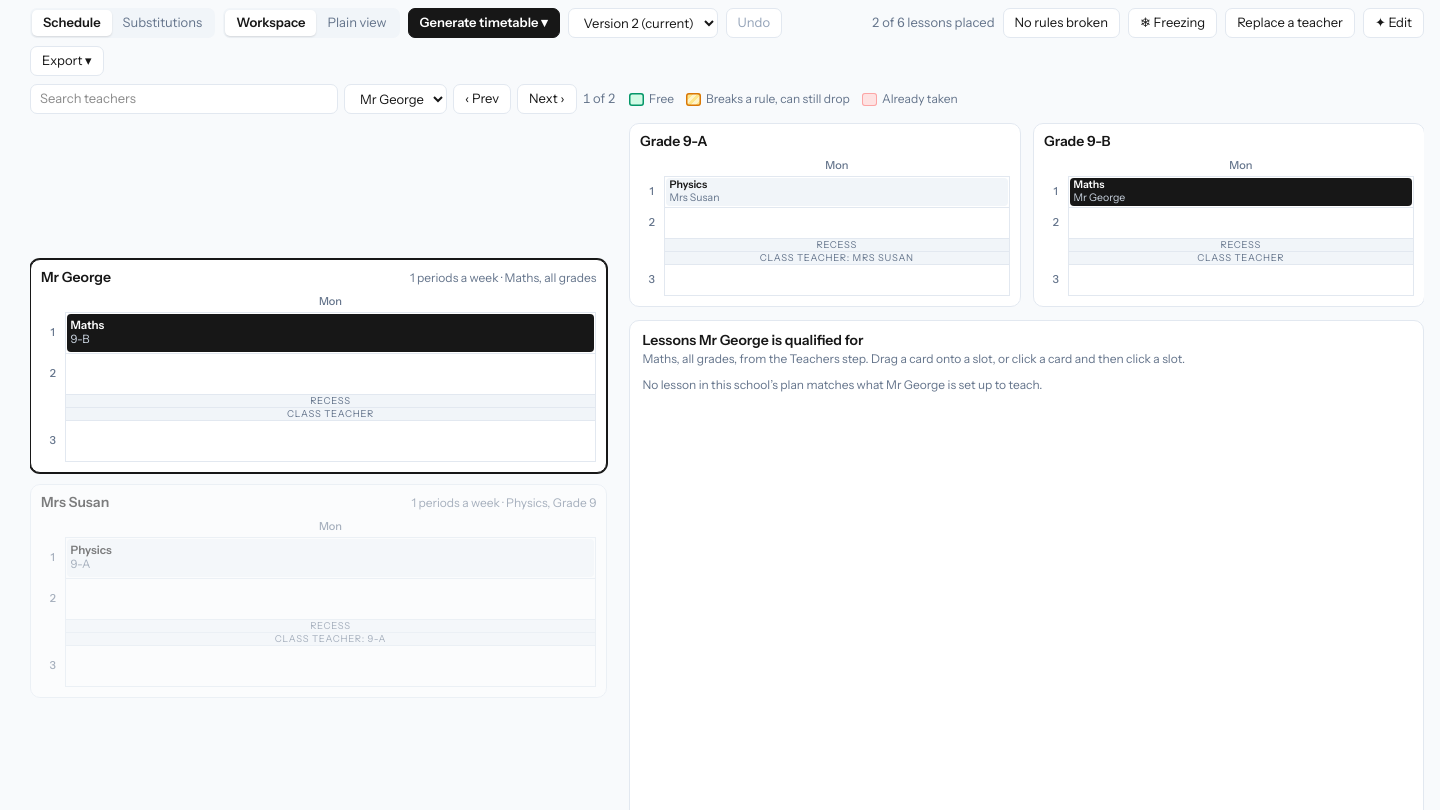
placing a lesson › refuses red and says why, without asking the server
Click the button with aria-label "Next teacher": [547, 99] box top-left (517, 84), bottom-right (576, 114)
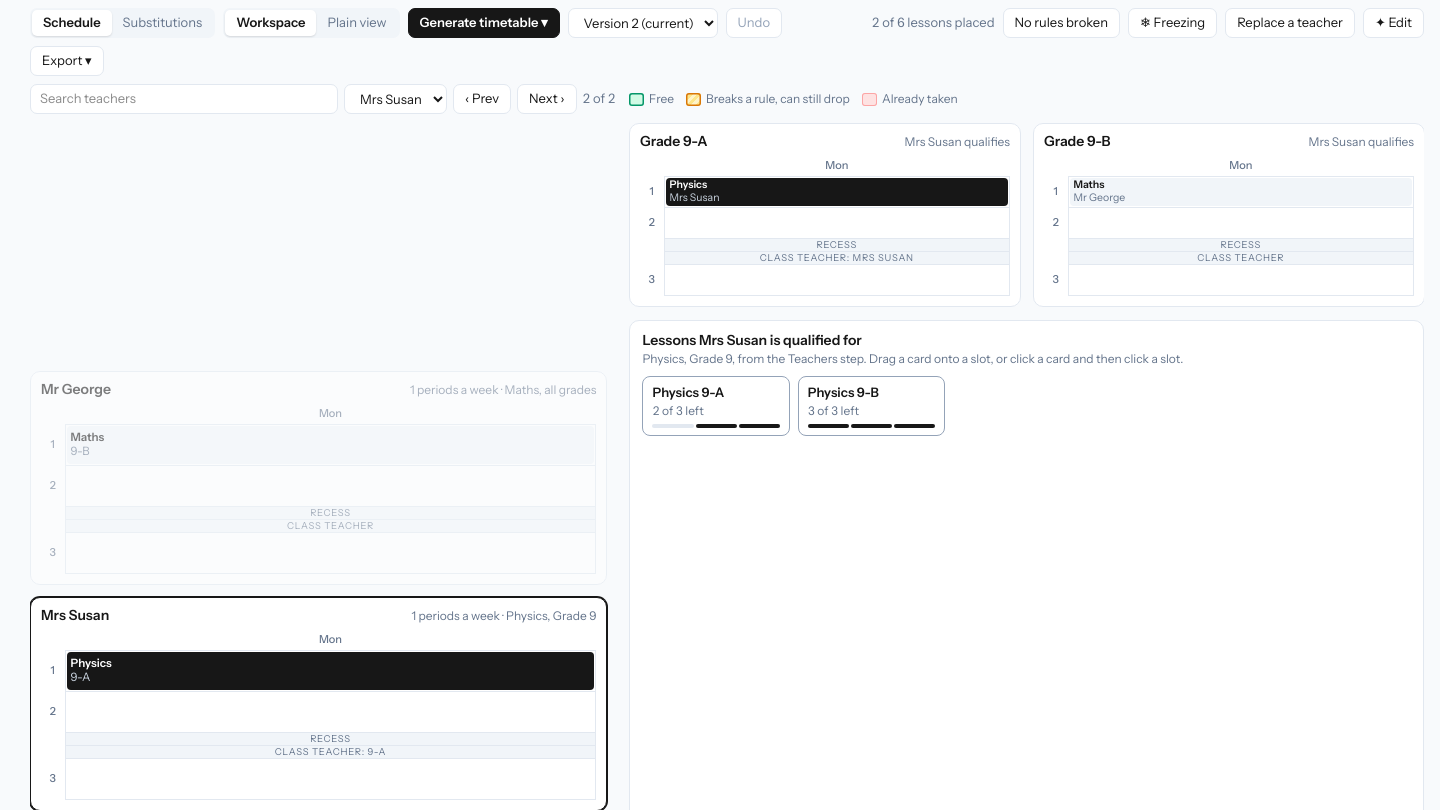
Press the mouse on the button "Physics 9-A 2 of 3 left": [716, 406] box top-left (642, 376), bottom-right (790, 436)
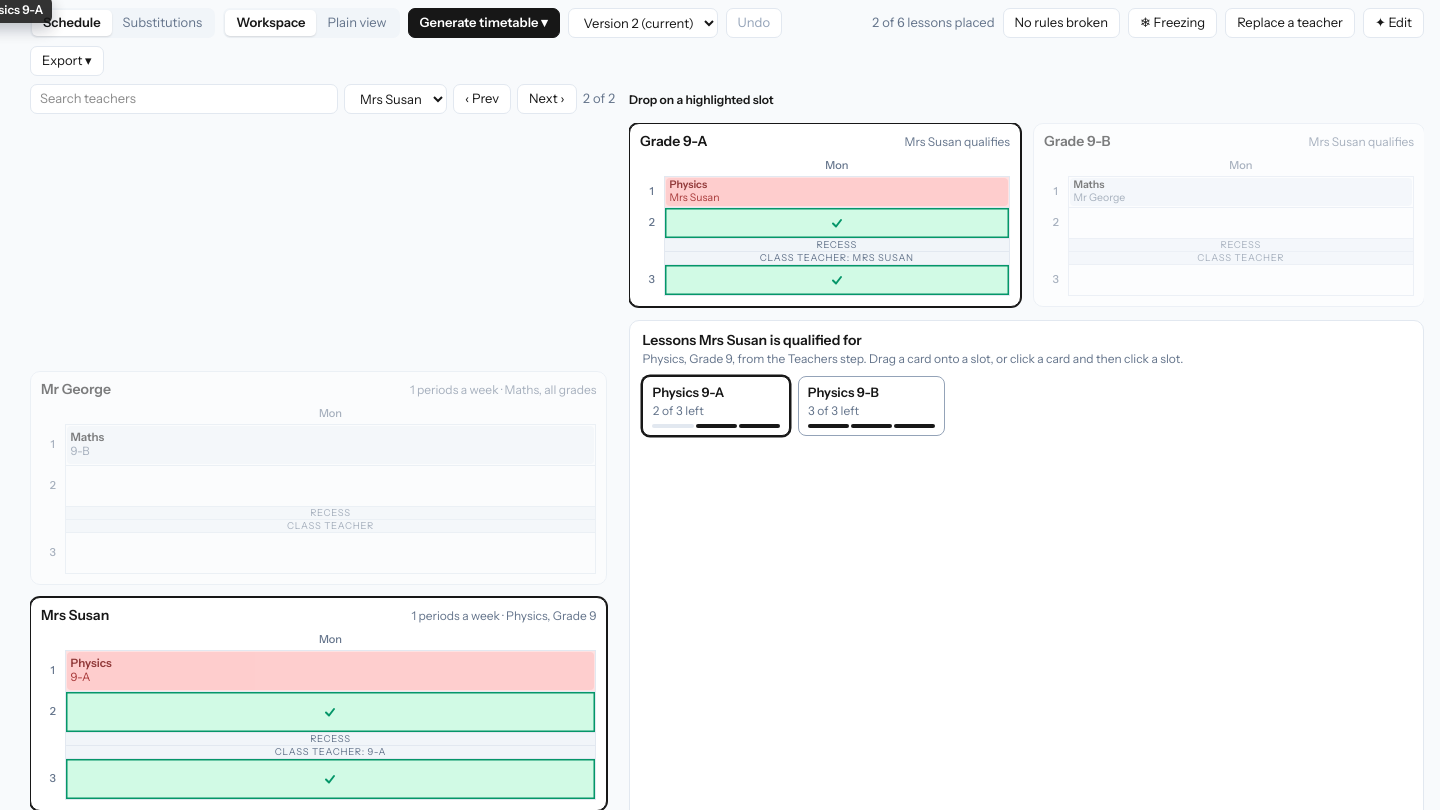
Press the mouse on the cell "Physics 9-A": [330, 670] box top-left (65, 650), bottom-right (596, 691)
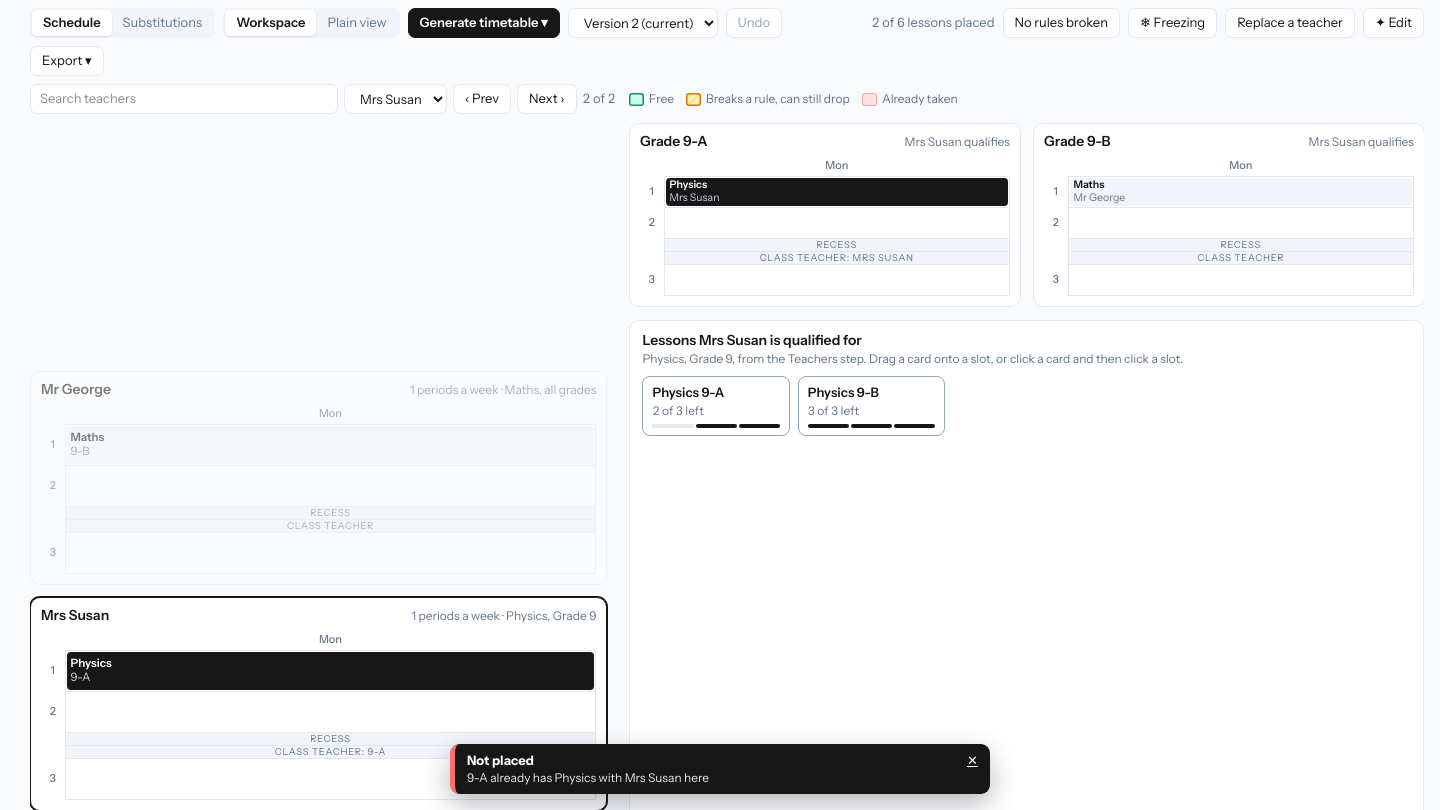
Expected: the text "Not placed" is shown, top-left (467, 752), bottom-right (534, 768)
Expected: the text "9-A already has Physics with Mrs Susan here" is shown, top-left (467, 770), bottom-right (709, 785)
